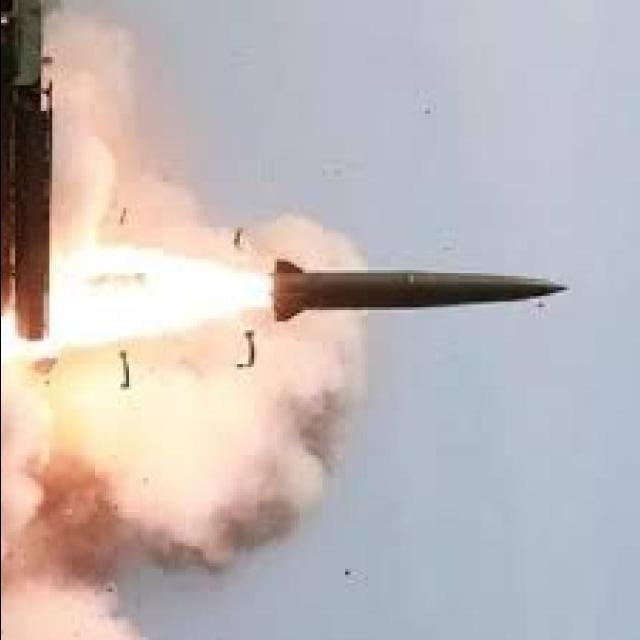Missile: (251, 253, 581, 338)
